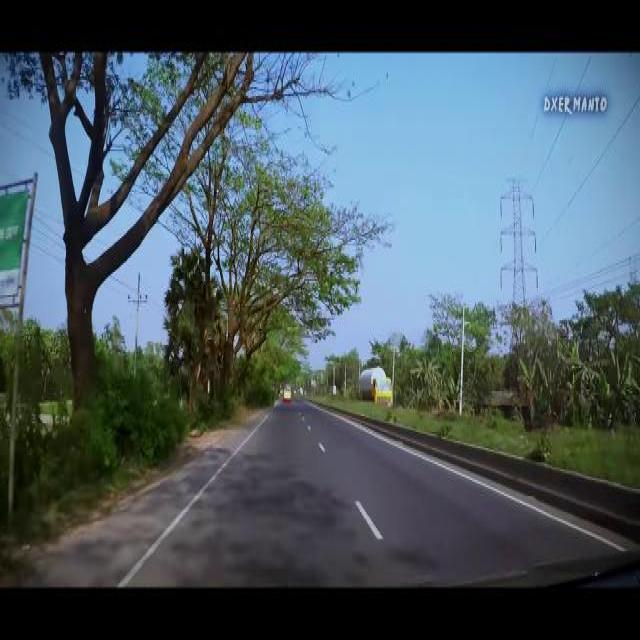bus: (281, 380, 293, 402)
truck: (356, 361, 394, 403)
